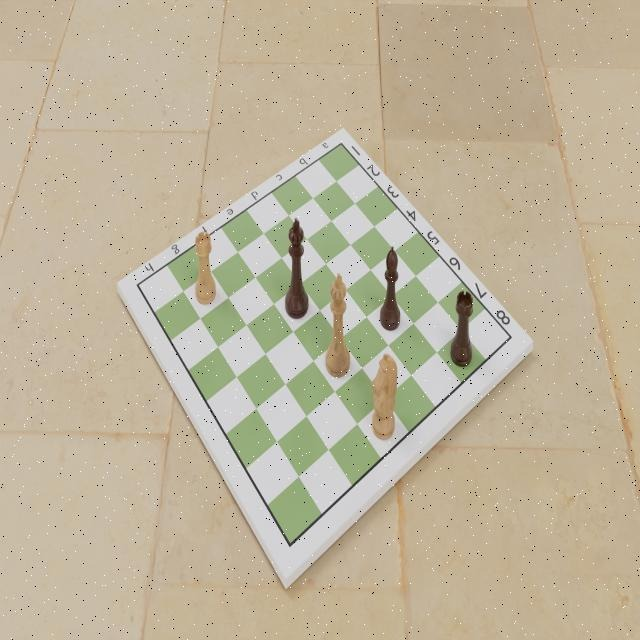black-bishop: (378, 245, 401, 331)
black-king: (284, 216, 310, 319)
black-rook: (449, 289, 474, 369)
white-king: (324, 272, 351, 380)
white-knight: (370, 351, 398, 441)
white-rook: (194, 230, 218, 305)
